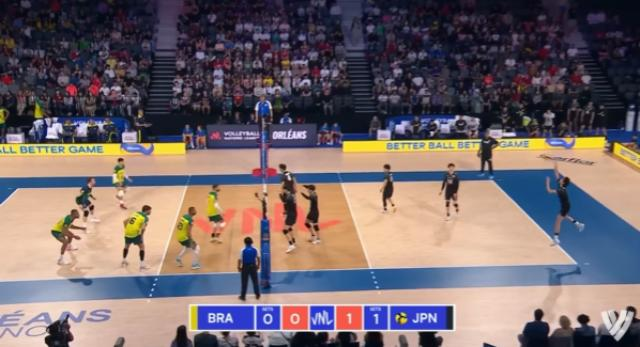Levantador: (204, 178, 228, 250), (276, 159, 298, 195)
Libero: (71, 173, 107, 233)
bola: (542, 153, 554, 165)
